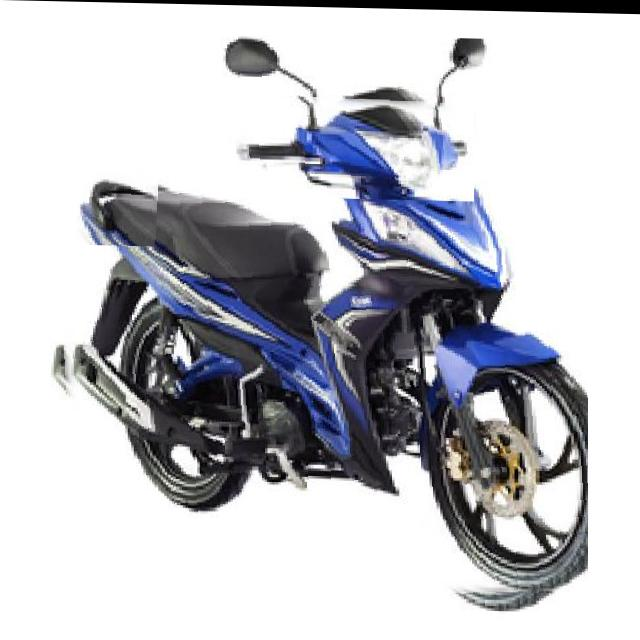All: (45, 29, 588, 611)
Head: (232, 92, 474, 199)
Tail: (75, 166, 159, 246)
